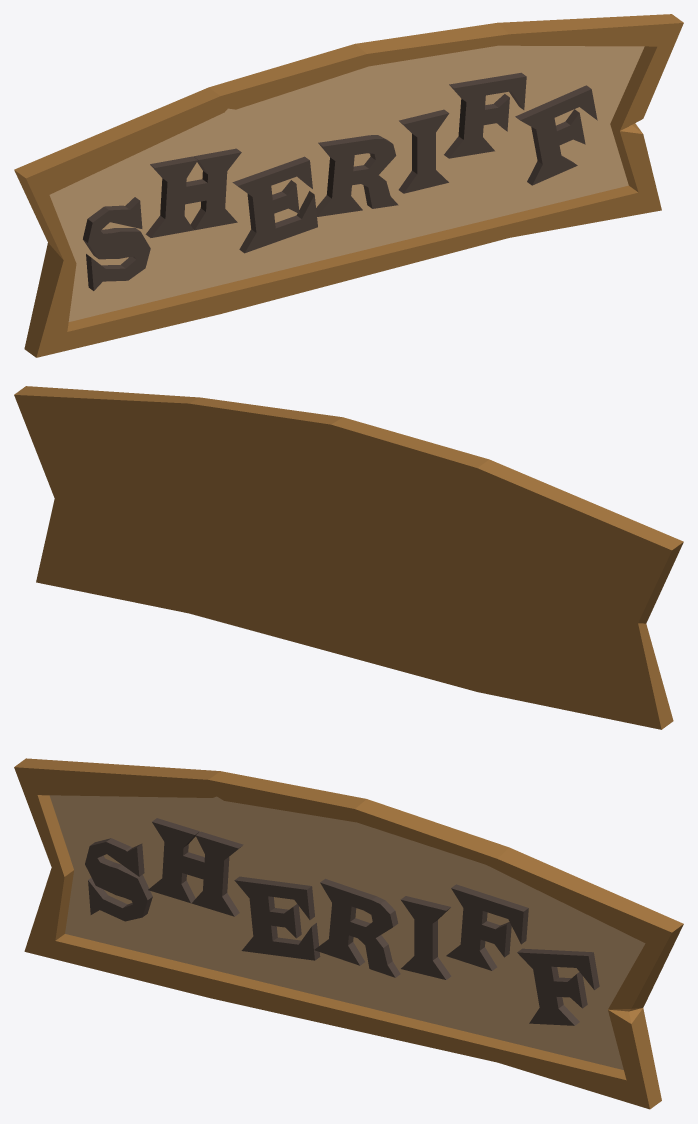
The model's file is Signboard_Sheriff.fbx.
3 renders of one model, top to bottom at view 1: azimuth 30°, elevation 25°; view 2: azimuth 150°, elevation 25°; view 3: azimuth 330°, elevation 25°, orthographic.
Visible parts, largest first — view 1: Signboard_Sheriff; view 2: Signboard_Sheriff; view 3: Signboard_Sheriff.
Part boxes in pixels (x1,y1,x2,y2): Signboard_Sheriff: (14, 14, 683, 357); Signboard_Sheriff: (14, 386, 683, 729); Signboard_Sheriff: (14, 758, 683, 1109).
Size of the model in its own units: 317 by 10 by 107.
